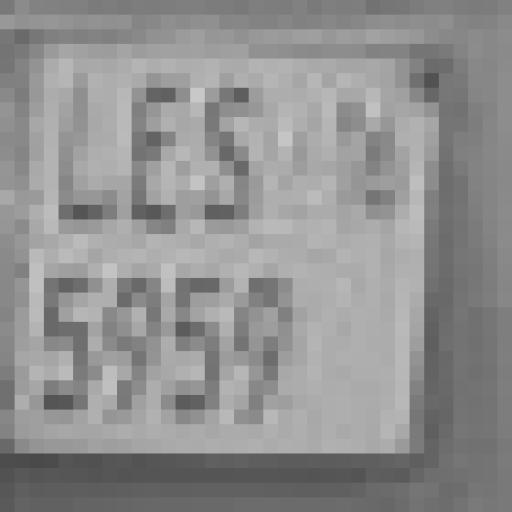5: (26, 280, 97, 418), (174, 277, 229, 423)
6: (104, 280, 159, 407)
9: (233, 271, 295, 423)
E: (124, 78, 186, 221)
L: (50, 72, 120, 228)
S: (192, 78, 262, 231)
